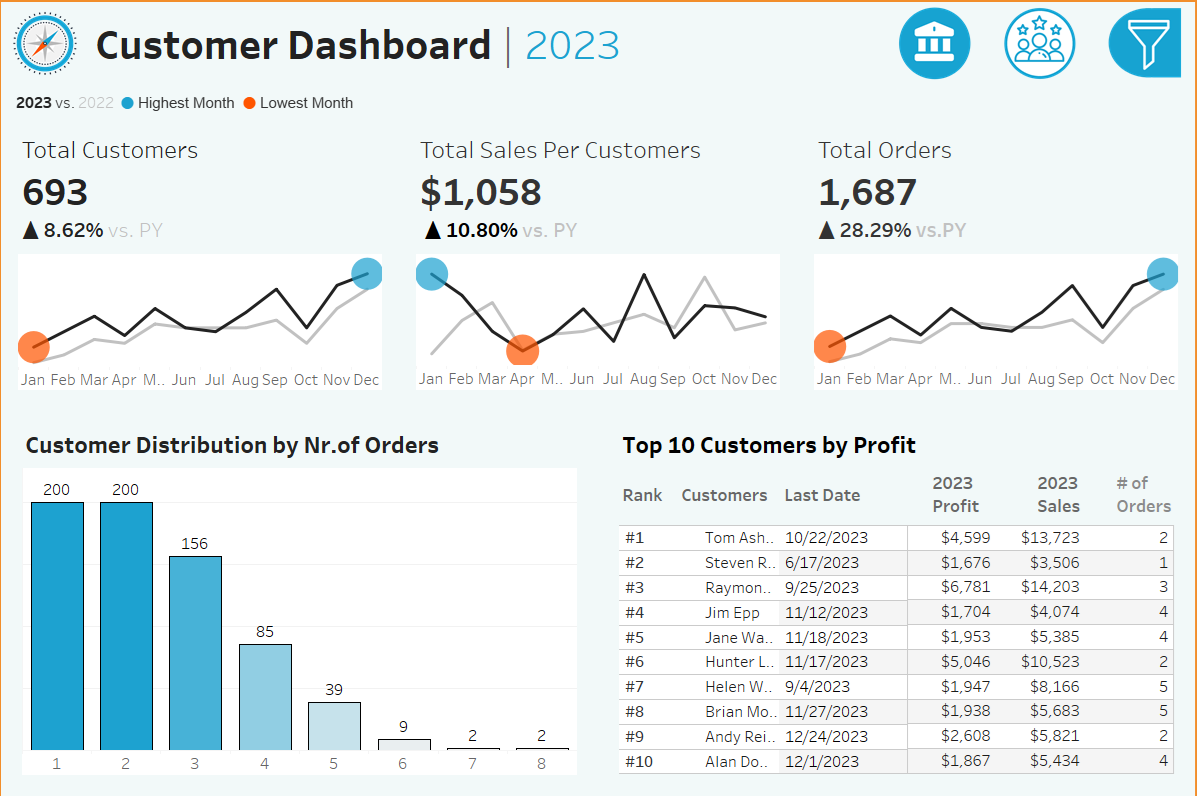

This screenshot's page, from the dashboard's own definition file:
{"tool":"tableau","page":{"name":"Customers Dashboard","canvas":[1200,800],"ordinal":0},"visuals":[{"type":"image","param":"D:/Data Analysis Project/Tabeau/Sales Dashboard Materials/Dashboard Icons/Icon -","box":[3,3,87,82]},{"type":"text","box":[90,3,794,82]},{"type":"dashboard-object","box":[884,3,105,82]},{"type":"dashboard-object","box":[989,3,104,82]},{"type":"dashboard-object","box":[1093,3,104,82]},{"type":"blank","box":[905,10,283,89]},{"type":"worksheet","title":"Legand KPI","mark":"Automatic","box":[3,85,1194,38]},{"type":"text","box":[905,99,283,40]},{"type":"worksheet","title":"KPI Customers","mark":"Automatic","rows":["Calculation_1270015096576487428"],"cols":["Order Date"],"box":[3,123,398,285]},{"type":"worksheet","title":"KPI Sales Per Customers","mark":"Automatic","rows":["Calculation_1270015096591114259"],"cols":["Order Date"],"box":[401,123,398,285]},{"type":"worksheet","title":"KPI Orders","mark":"Automatic","rows":["Calculation_1270015096600158237"],"cols":["Order Date"],"box":[799,123,398,285]},{"type":"parameter","param":"[Parameters].[Parameter 1]","box":[905,139,283,46.9]},{"type":"blank","box":[905,185.9,283,60]},{"type":"text","box":[905,245.9,283,33]},{"type":"filter","title":"KPI Customers","param":"[federated.1sicuv803ezvt21517y710dkkp9c].[none:Category:nk]","box":[905,278.9,283,46.9]},{"type":"filter","title":"KPI Customers","param":"[federated.1sicuv803ezvt21517y710dkkp9c].[none:Sub-Category:nk]","box":[905,325.8,283,46.9]},{"type":"text","box":[905,372.7,283,33]},{"type":"filter","title":"KPI Customers","param":"[federated.1sicuv803ezvt21517y710dkkp9c].[none:Region:nk]","box":[905,405.7,283,46.9]},{"type":"text","box":[20,425,563,40]},{"type":"text","box":[617,425,563,40]},{"type":"filter","title":"KPI Customers","param":"[federated.1sicuv803ezvt21517y710dkkp9c].[none:State:nk]","box":[905,452.6,283,46.9]},{"type":"worksheet","title":"Customers Distribution by Orders","mark":"Automatic","rows":["Calculation_1270015096575426561"],"cols":["Calculation_586875328444055552"],"box":[20,465,563,315]},{"type":"text","box":[617,468,59,54]},{"type":"text","box":[676,468,103,54]},{"type":"text","box":[779,468,148,54]},{"type":"text","box":[927,468,105,54]},{"type":"text","box":[1032,468,79,54]},{"type":"text","box":[1111,468,69,54]},{"type":"filter","title":"KPI Customers","param":"[federated.1sicuv803ezvt21517y710dkkp9c].[none:City:nk]","box":[905,499.5,283,46.9]},{"type":"worksheet","title":"Top Customers","mark":"Automatic","rows":["Calculation_355221422617509890","Customer Name","Order Date"],"box":[617,522,563,258]},{"type":"legend","title":"KPI Customers","param":"[federated.1sicuv803ezvt21517y710dkkp9c].[:Measure Names]","box":[905,546.4,283,46.9]},{"type":"legend","title":"KPI Customers","param":"[federated.1sicuv803ezvt21517y710dkkp9c].[usr:Calculation_1270015096576487428:qk","box":[905,593.3,283,46.9]},{"type":"legend","title":"KPI Sales Per Customers","param":"[federated.1sicuv803ezvt21517y710dkkp9c].[usr:Calculation_1270015096591114259:qk","box":[905,640.2,283,46.9]},{"type":"legend","title":"KPI Orders","param":"[federated.1sicuv803ezvt21517y710dkkp9c].[usr:Calculation_1270015096600158237:qk","box":[905,687.1,283,46.9]},{"type":"legend","title":"Customers Distribution by Orders","param":"[federated.1sicuv803ezvt21517y710dkkp9c].[ctd:Calculation_1270015096575426561:qk","box":[905,734,283,47]}]}

Visuals, with their boxes in screenshot pixels (x1, y1, x2, y2), scaled from the page's 1200x800 canvas onto the 1197x796 screenshot:
image: l=3, t=3, r=90, b=85
text: l=90, t=3, r=882, b=85
dashboard-object: l=882, t=3, r=987, b=85
dashboard-object: l=987, t=3, r=1090, b=85
dashboard-object: l=1090, t=3, r=1194, b=85
blank: l=903, t=10, r=1185, b=99
"Legand KPI" worksheet: l=3, t=85, r=1194, b=122
text: l=903, t=99, r=1185, b=138
"KPI Customers" worksheet: l=3, t=122, r=400, b=406
"KPI Sales Per Customers" worksheet: l=400, t=122, r=797, b=406
"KPI Orders" worksheet: l=797, t=122, r=1194, b=406
parameter: l=903, t=138, r=1185, b=185
blank: l=903, t=185, r=1185, b=245
text: l=903, t=245, r=1185, b=278
"KPI Customers" filter: l=903, t=278, r=1185, b=324
"KPI Customers" filter: l=903, t=324, r=1185, b=371
text: l=903, t=371, r=1185, b=404
"KPI Customers" filter: l=903, t=404, r=1185, b=450
text: l=20, t=423, r=582, b=463
text: l=615, t=423, r=1177, b=463
"KPI Customers" filter: l=903, t=450, r=1185, b=497
"Customers Distribution by Orders" worksheet: l=20, t=463, r=582, b=776
text: l=615, t=466, r=674, b=519
text: l=674, t=466, r=777, b=519
text: l=777, t=466, r=925, b=519
text: l=925, t=466, r=1029, b=519
text: l=1029, t=466, r=1108, b=519
text: l=1108, t=466, r=1177, b=519
"KPI Customers" filter: l=903, t=497, r=1185, b=544
"Top Customers" worksheet: l=615, t=519, r=1177, b=776
"KPI Customers" legend: l=903, t=544, r=1185, b=590
"KPI Customers" legend: l=903, t=590, r=1185, b=637
"KPI Sales Per Customers" legend: l=903, t=637, r=1185, b=684
"KPI Orders" legend: l=903, t=684, r=1185, b=730
"Customers Distribution by Orders" legend: l=903, t=730, r=1185, b=777
